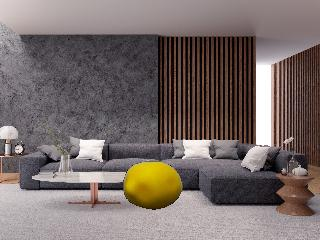lemon: (119, 159, 186, 212)
